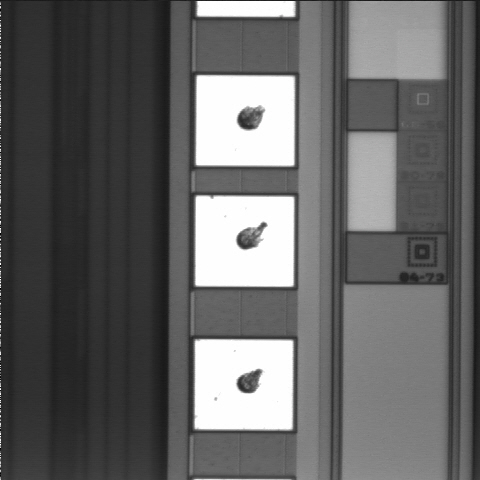pad: (196, 75, 295, 166), (195, 196, 294, 287), (195, 339, 293, 430)
